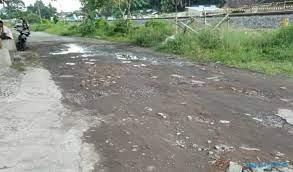Pothole: (172, 72, 271, 104), (56, 67, 122, 105), (44, 38, 106, 66), (113, 51, 177, 66), (181, 57, 210, 70)
